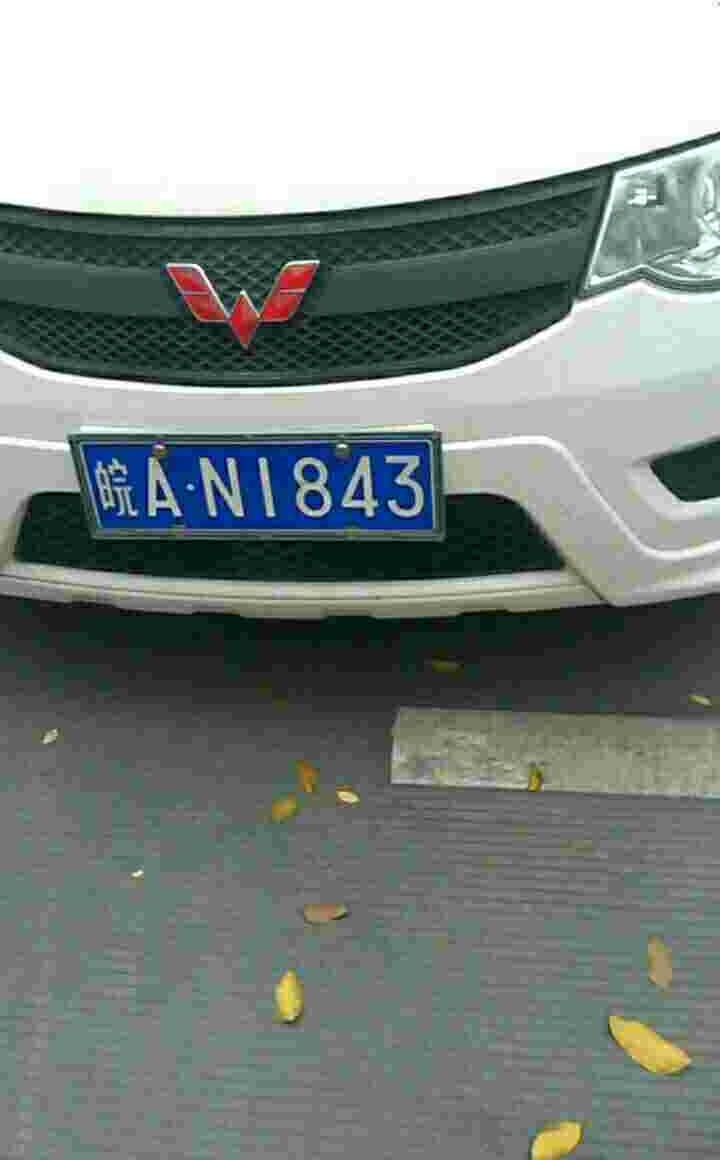license_plate: (79, 439, 428, 542)
